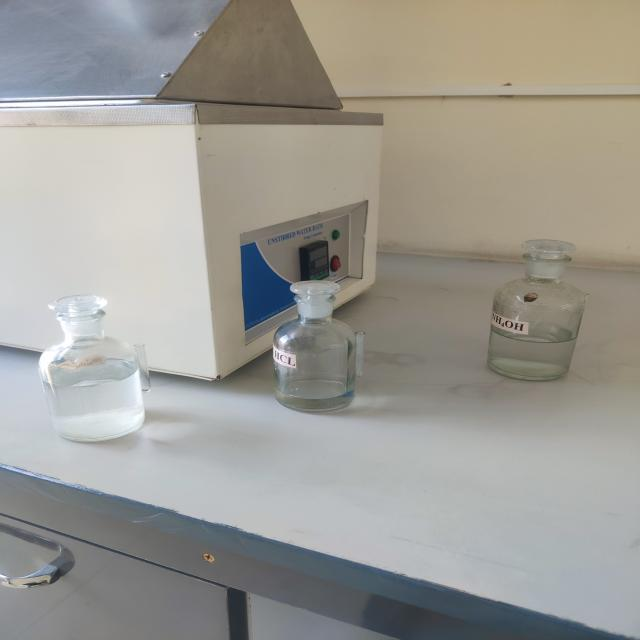Reagent_Bottle: (13, 274, 181, 462), (453, 213, 613, 407), (245, 255, 388, 431)
